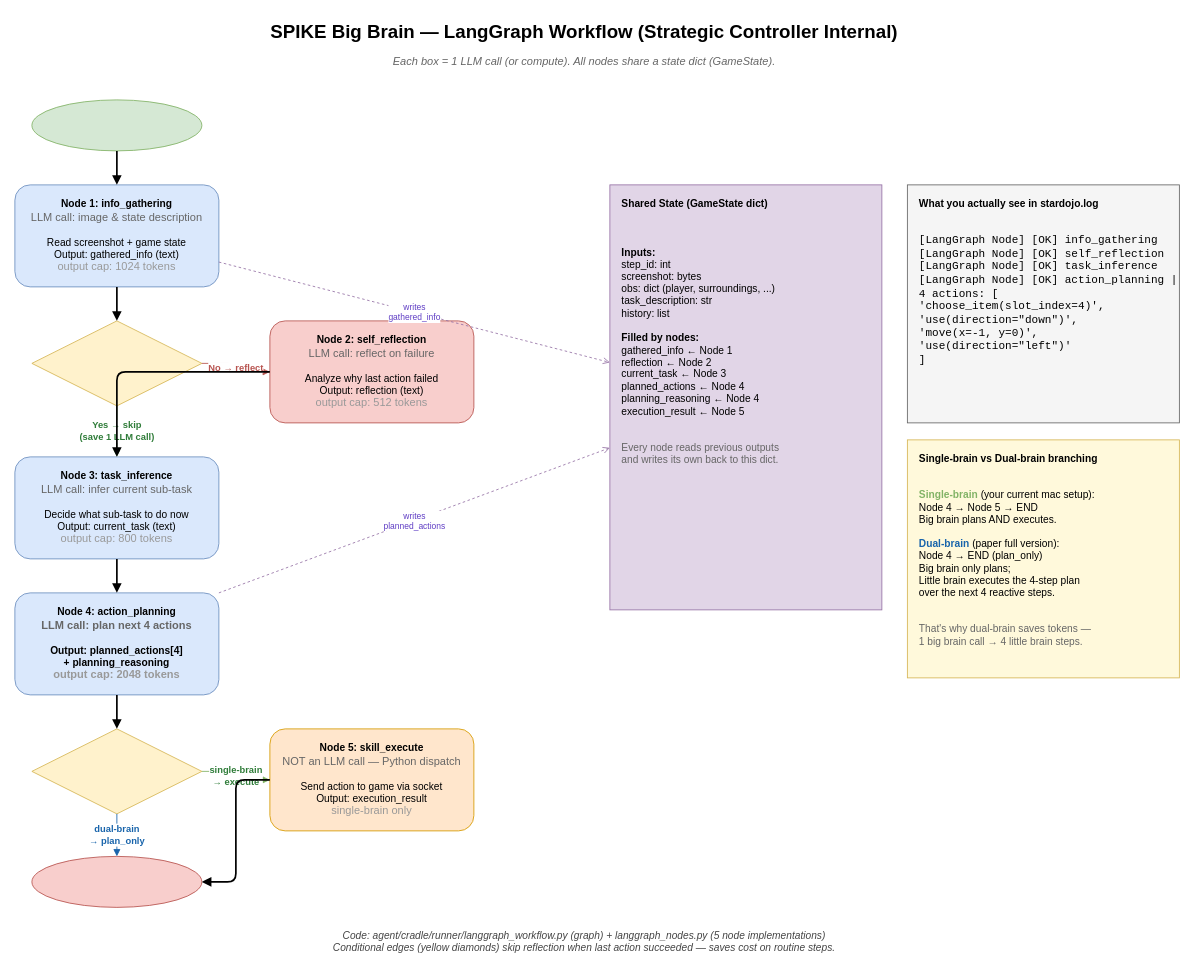
Some shapes in this 1194 by 969 pixel diagram are drawn without their labels. The centre of each missing label's shape, as x and y in pixels:
Dual-brain mode? should_execute_after_planning: the point at 116,771
END (plan handed off / step done): the point at 116,881
ENTRY (env observation arrives): the point at 116,125
Was last action successful? should_skip_reflection: the point at 116,363
